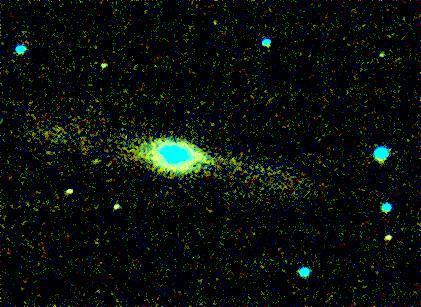star: (81, 144, 111, 174)
